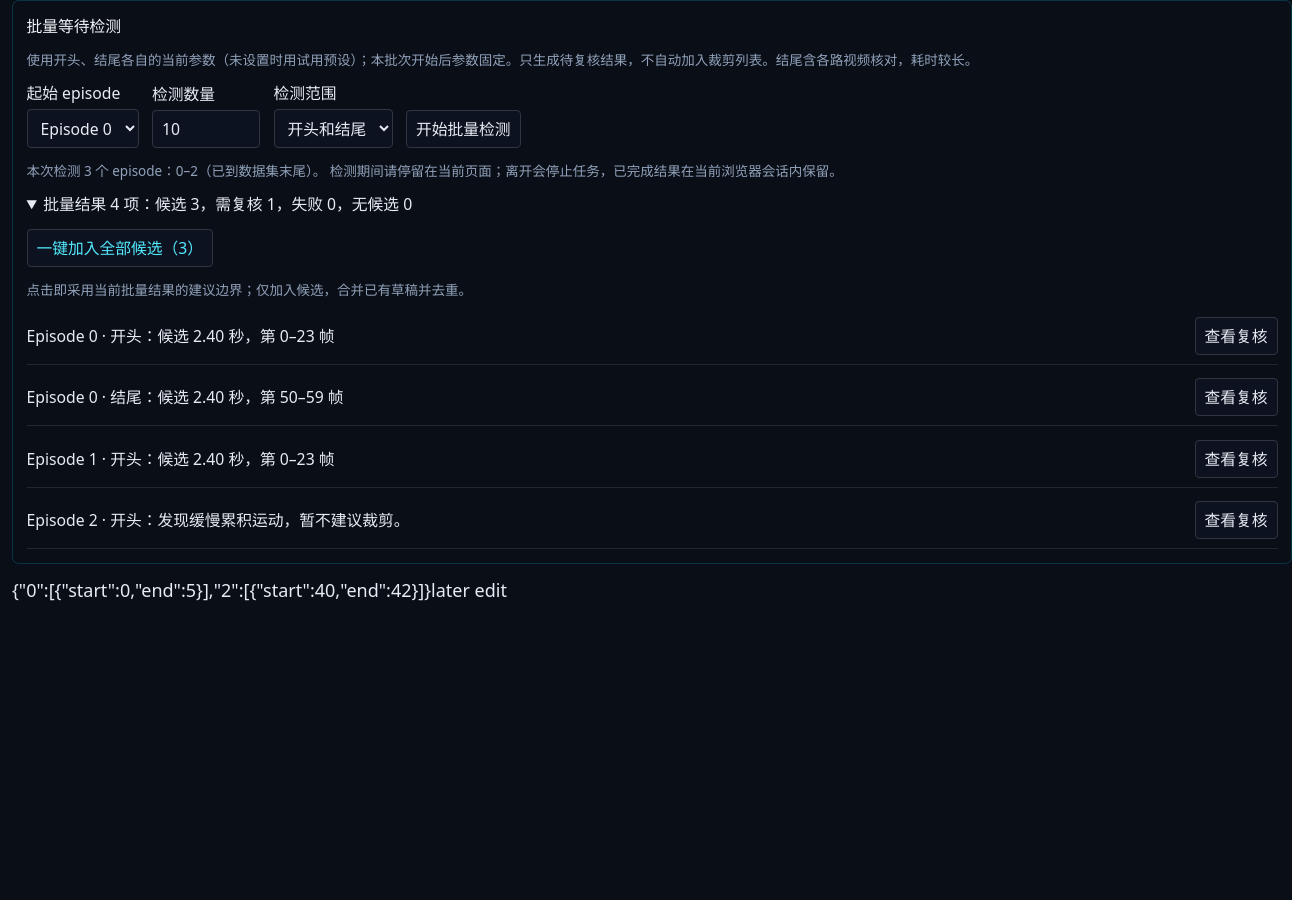
Test case: a read failure leaves the entire batch unapplied
Click the button "一键加入全部候选（3）" at (120, 248), box [26,230,213,268]
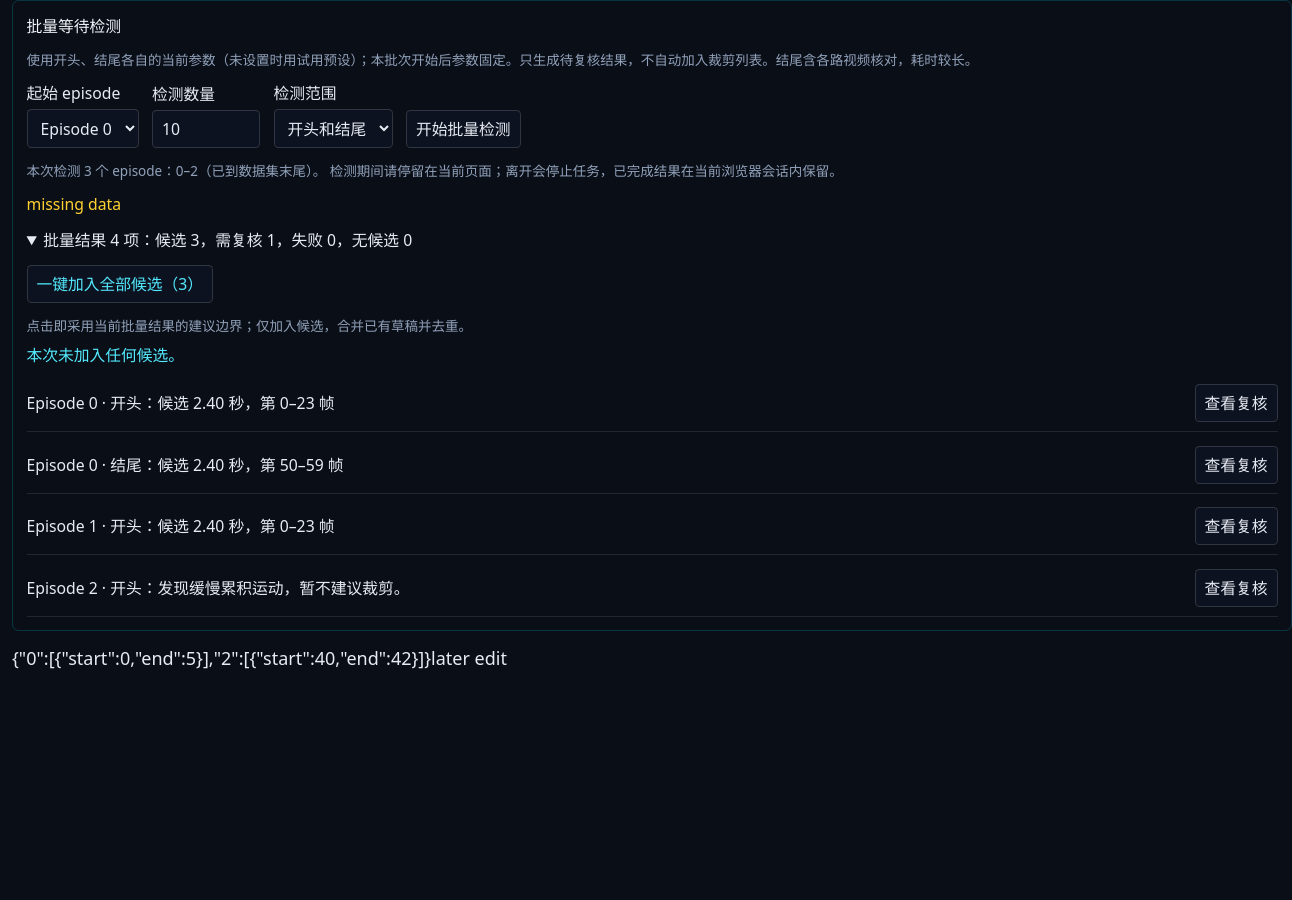
Check: the text "本次未加入任何候选。" is shown, box [26,344,184,366]
